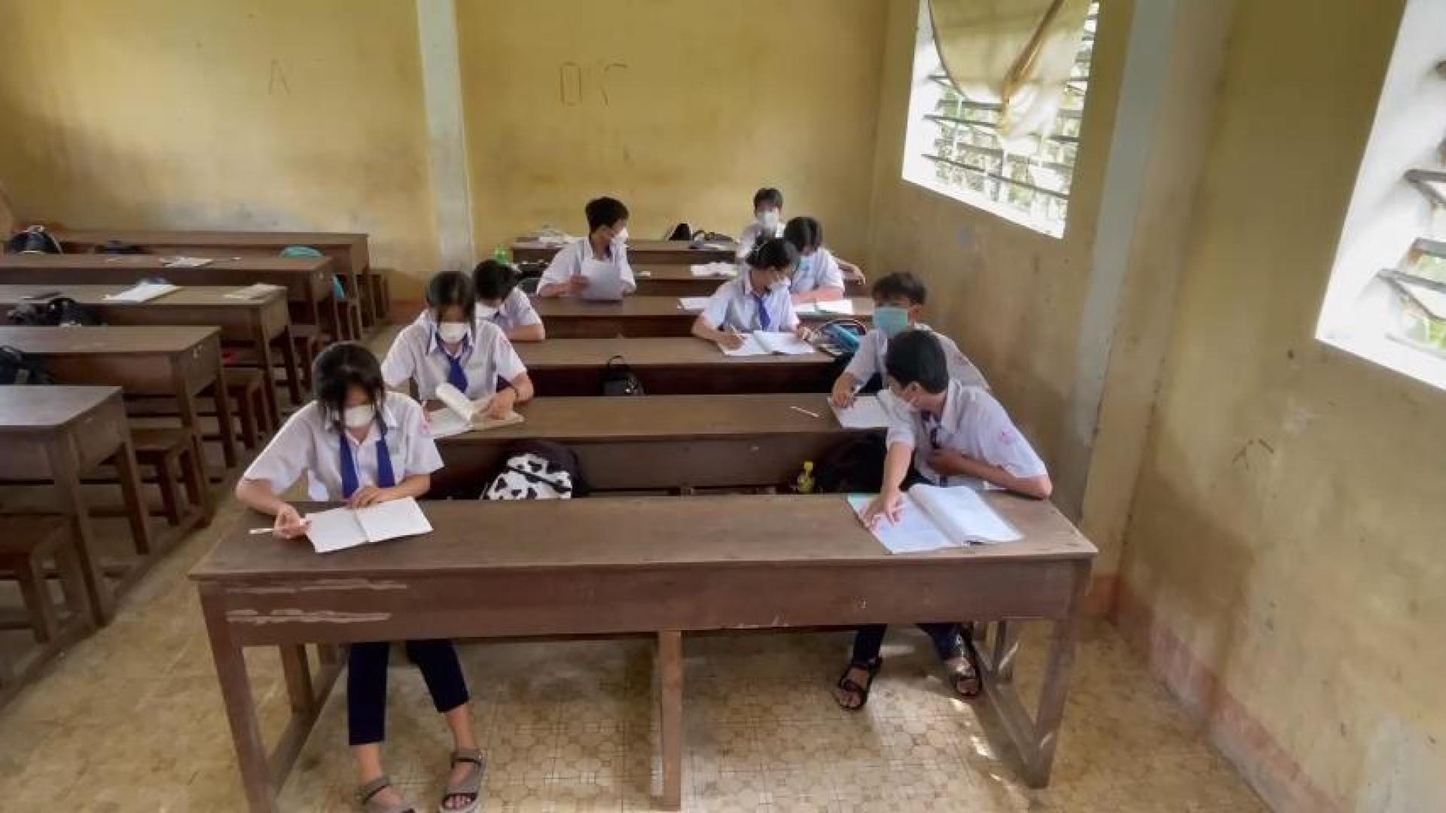Look Around: (869, 320, 967, 432), (579, 188, 643, 257), (738, 230, 801, 300)
